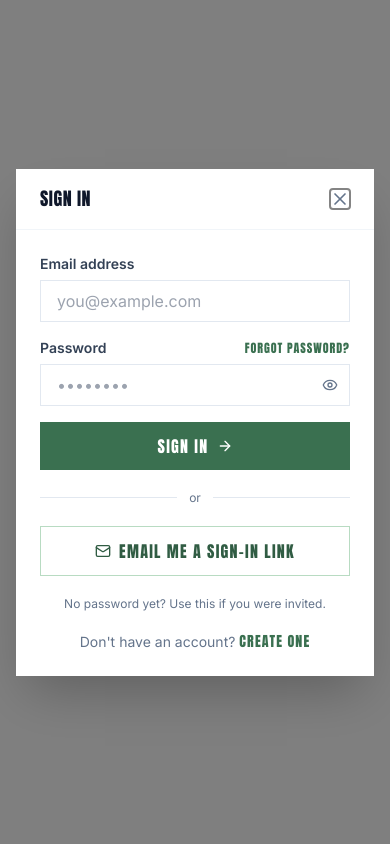
magic-link copy tells you WHERE to open it › on web, keeps the plain wording
Type "truman@example.com" into the field with placeholder "you@example.com" at (195, 300), box x1=40 y1=280 x2=350 y2=322
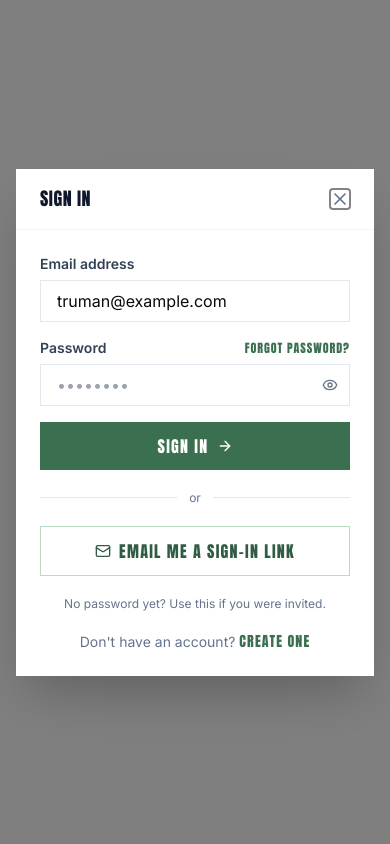
Click the button "Email me a sign-in link" at (195, 550), box x1=40 y1=526 x2=350 y2=576
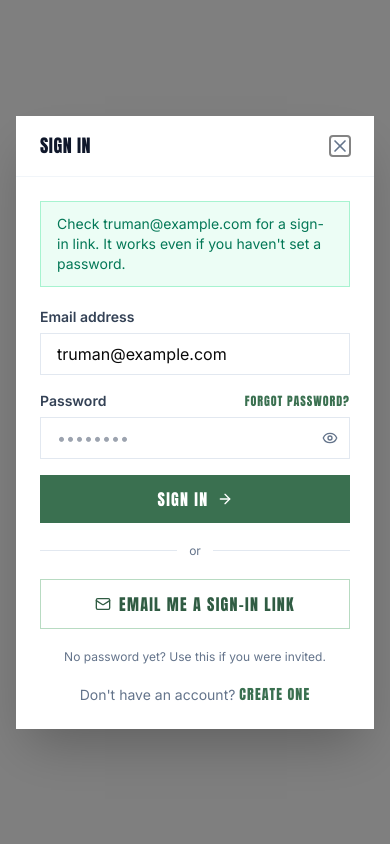
Expected: the text "Check truman@example.com for a sign-in link" is shown, x1=57 y1=214 x2=324 y2=272
